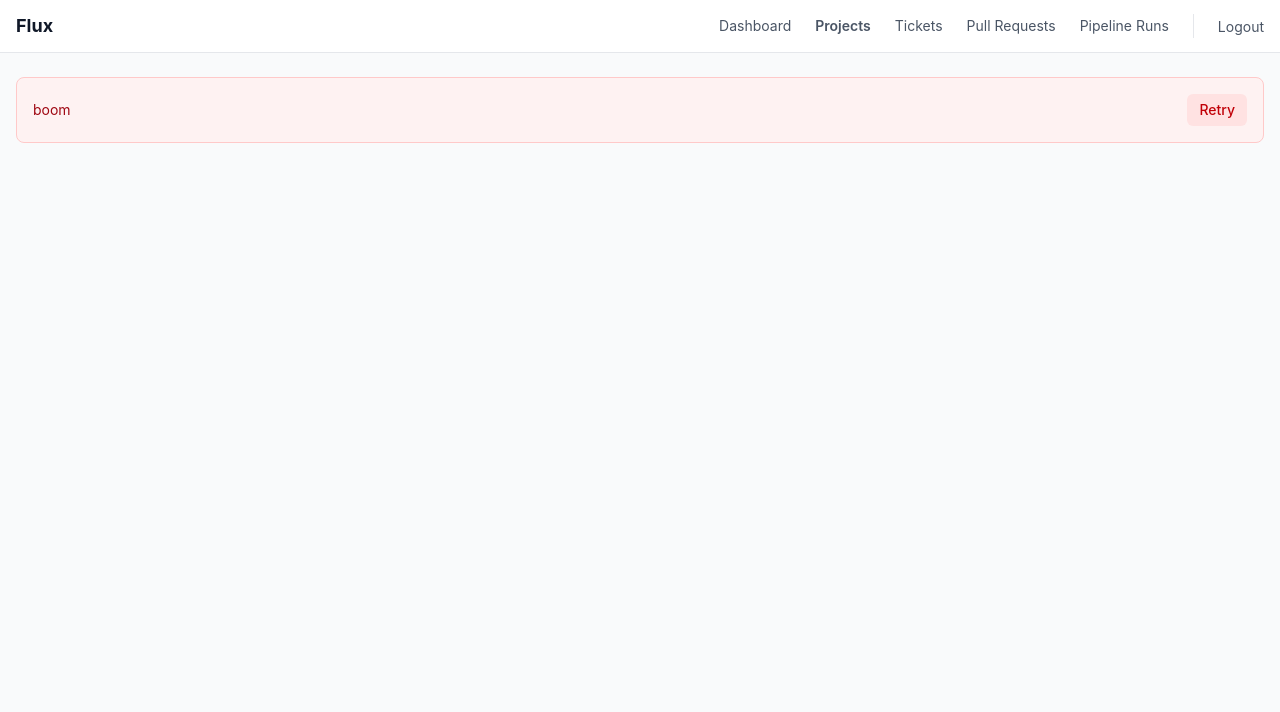
Test case: ProjectDetailPage › shows a retry button in the error banner
Expected: the message "boom Retry" is shown, [16, 77, 1264, 143]
Click the button "Retry".
click(1217, 110)  # box [1187, 94, 1247, 126]
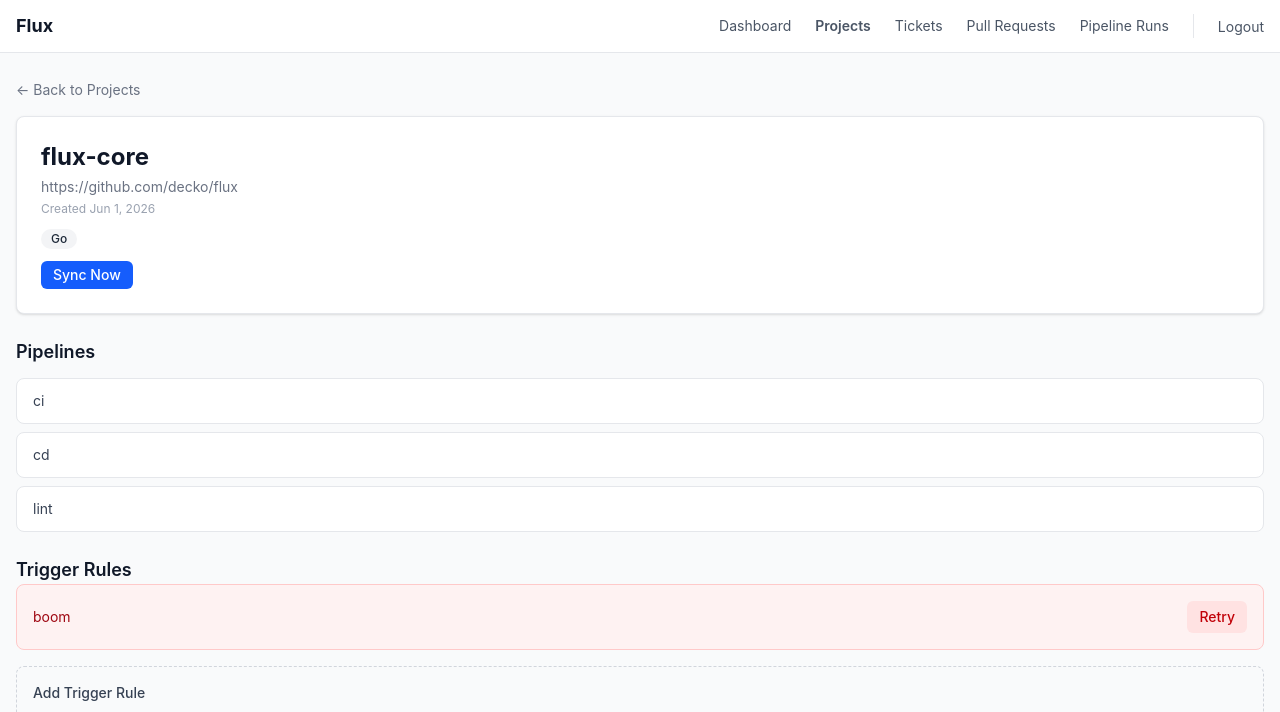
Result: the heading "flux-core" is shown at [41, 142, 149, 171]
